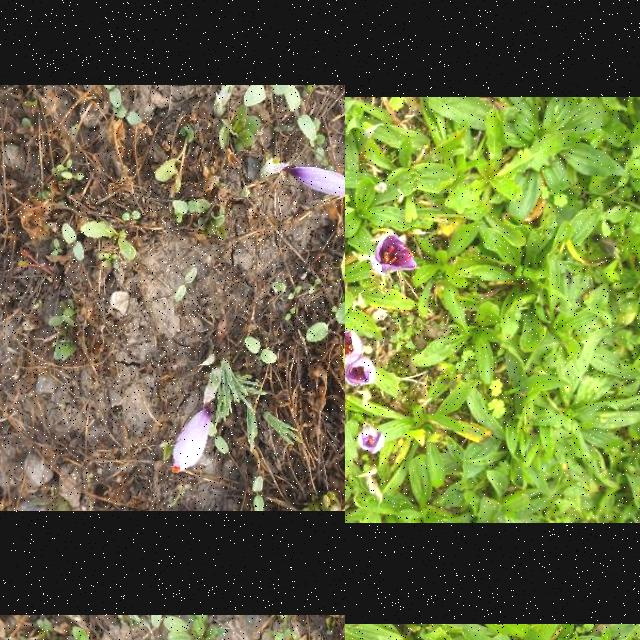flower: (372, 232, 416, 276), (288, 167, 345, 199), (345, 357, 376, 387), (358, 427, 386, 455), (345, 330, 364, 365)
